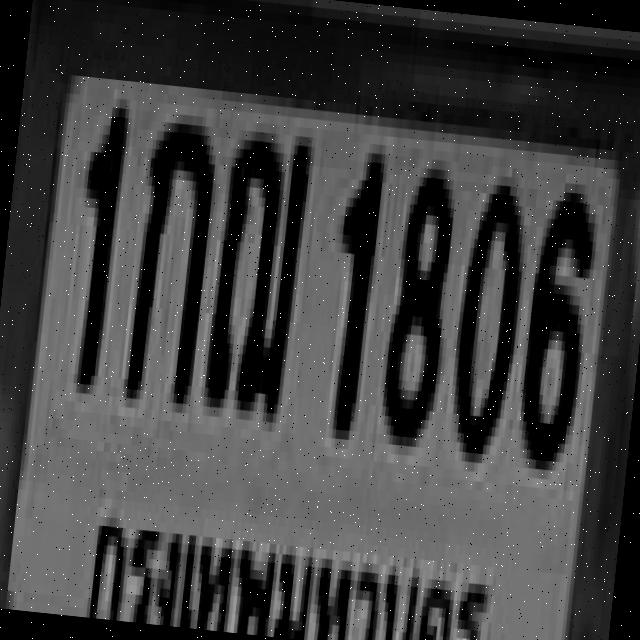0: (445, 173, 528, 456)
1: (63, 96, 126, 385), (319, 142, 382, 430)
10GorGai: (123, 111, 216, 395)
21ChorChoe: (200, 115, 310, 409)
6: (512, 180, 595, 463)
8: (376, 156, 455, 438)
Bangkok: (76, 496, 509, 640)
